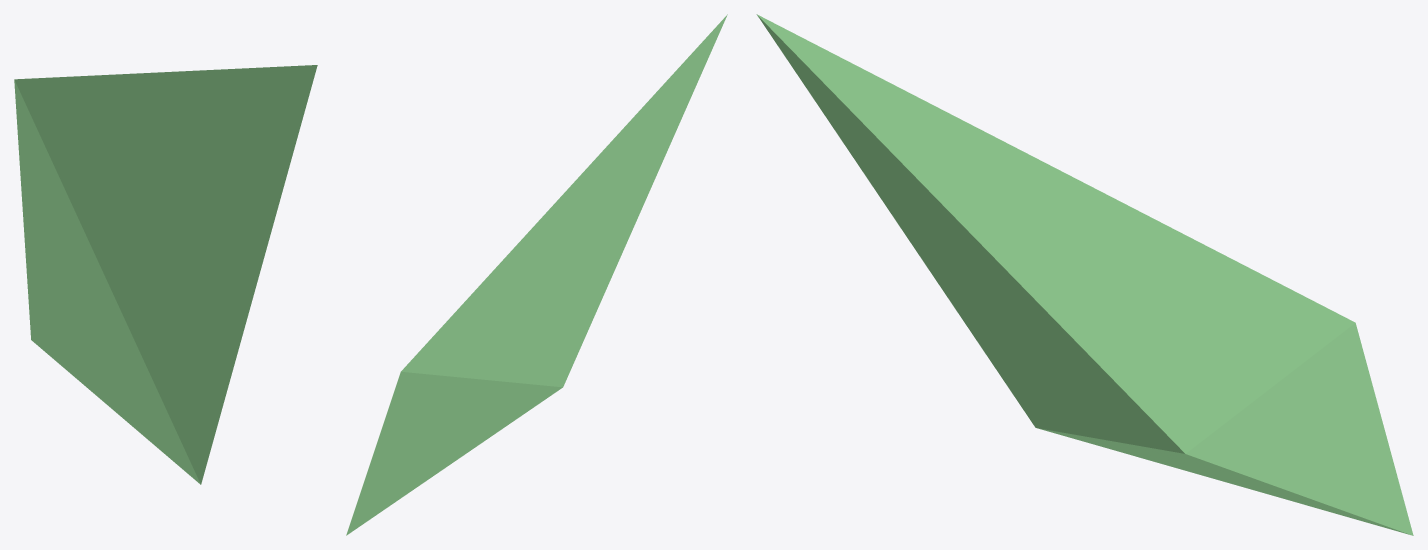
File: dvkr_robot_L3_dx_respondable_TOOL1_coll_12.dae
3 renders of one model, left to right at view 1: azimuth 30°, elevation 25°; view 2: azimuth 150°, elevation 25°; view 3: azimuth 270°, elevation 25°, orthographic. The views are drawn at different scales.
Visible parts, largest first — view 1: Node_0000023514CD9290; view 2: Node_0000023514CD9290; view 3: Node_0000023514CD9290.
Boxes of the visible parts, <box> form: Node_0000023514CD9290: <box>14,65,317,484</box>; Node_0000023514CD9290: <box>346,14,727,535</box>; Node_0000023514CD9290: <box>756,14,1413,535</box>.
Size of the model in its own units: 0.000591 by 0.0017 by 0.00225.
